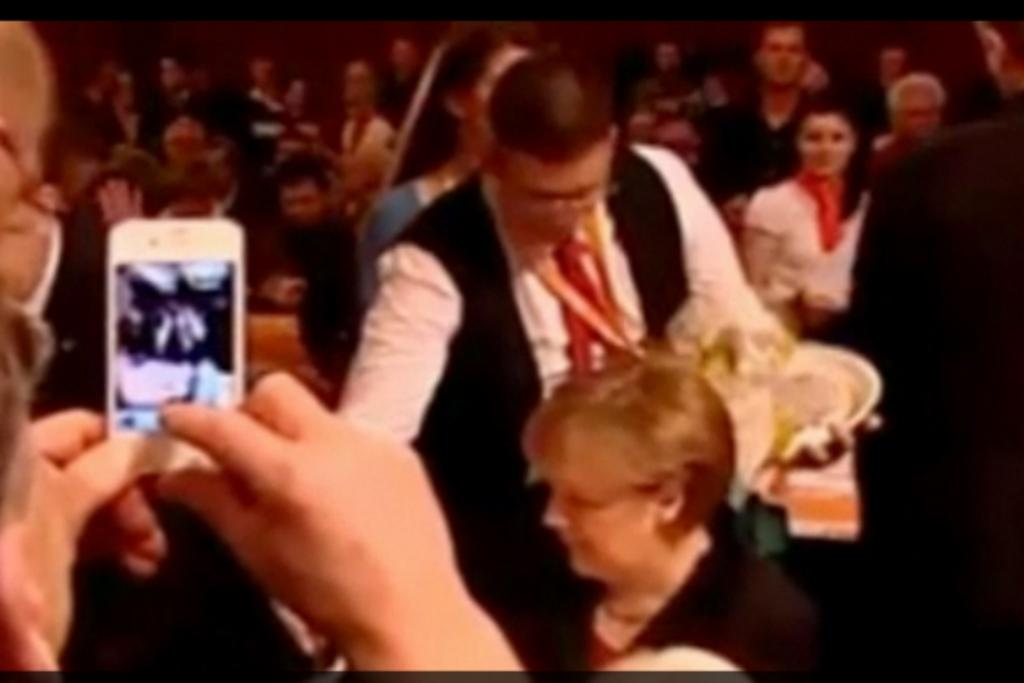face: (542, 439, 655, 577), (509, 152, 609, 242), (802, 122, 852, 177), (762, 31, 803, 84), (899, 96, 939, 147), (165, 128, 206, 168)
